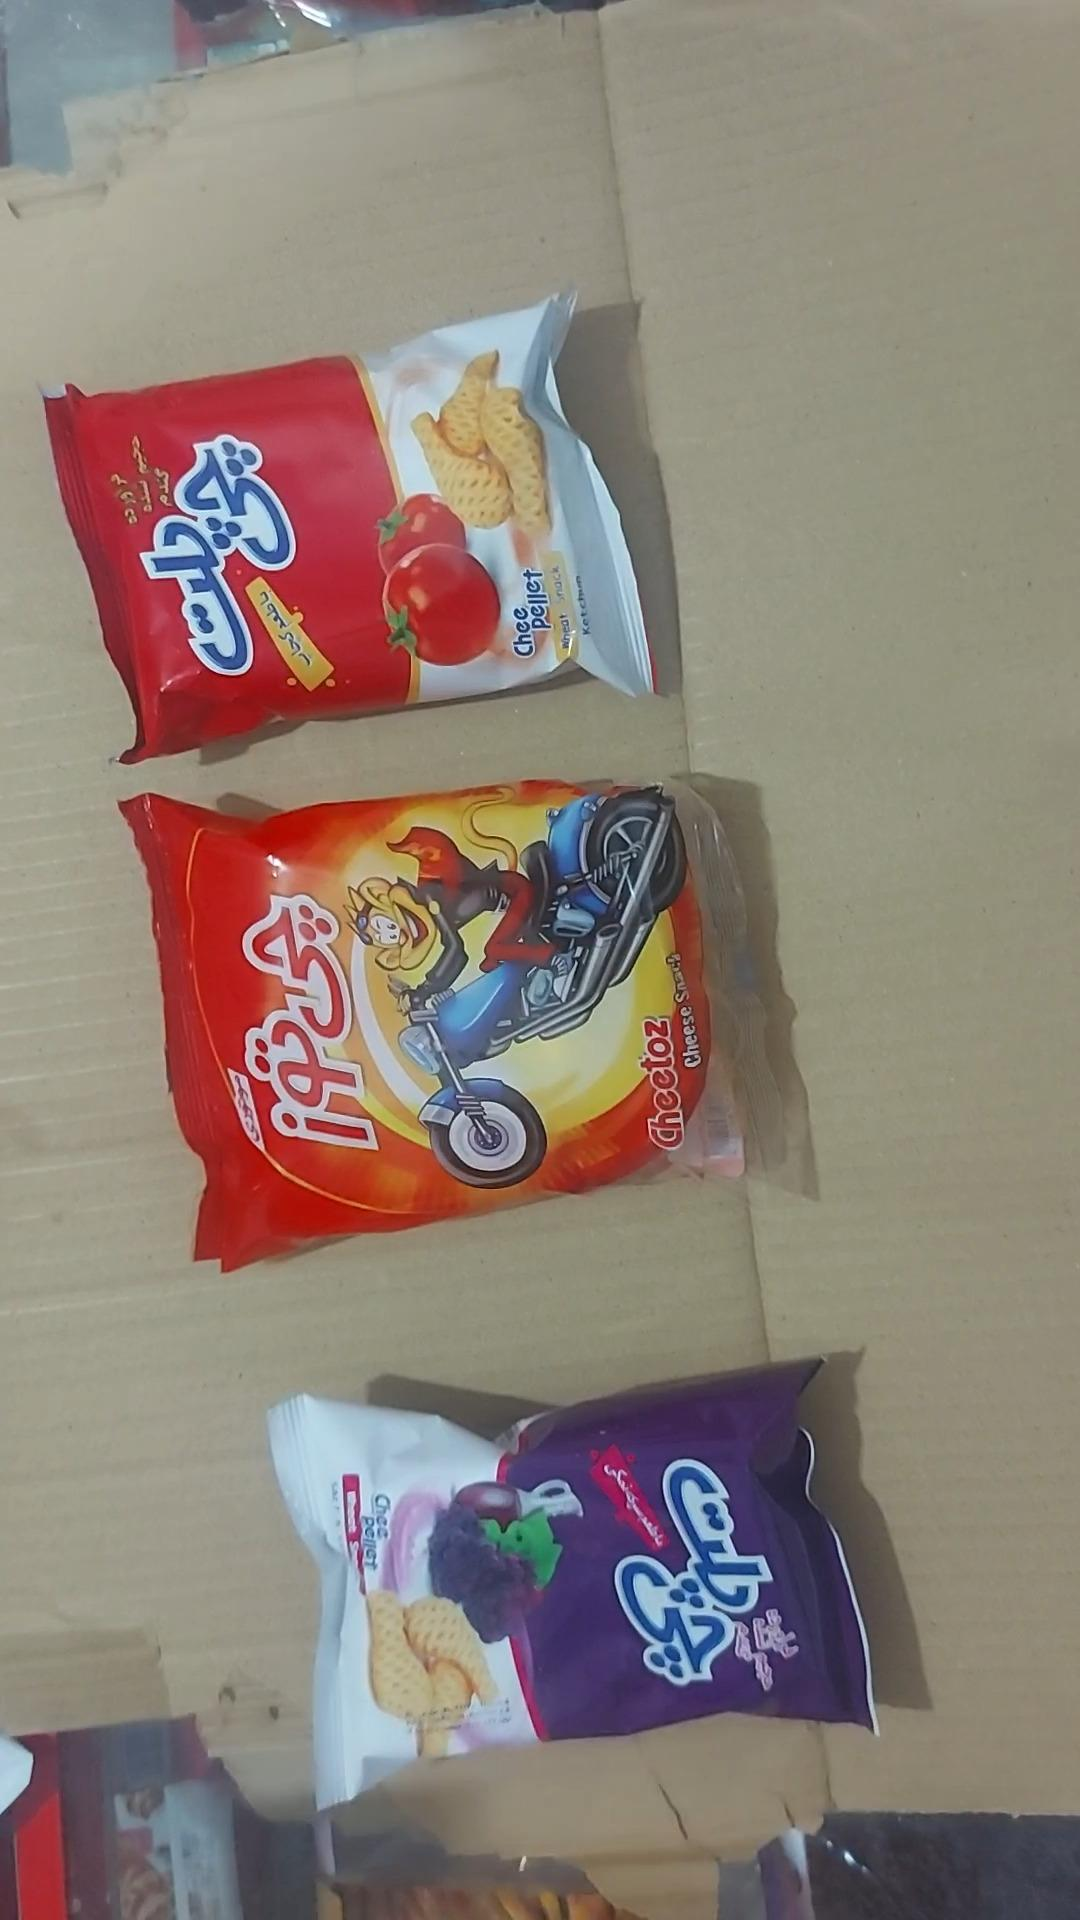Chee pellet ketchup: (44, 294, 655, 764)
Chee pellet vinegar: (268, 1361, 876, 1811)
Cheetoz snack 30g: (120, 781, 783, 1270)
